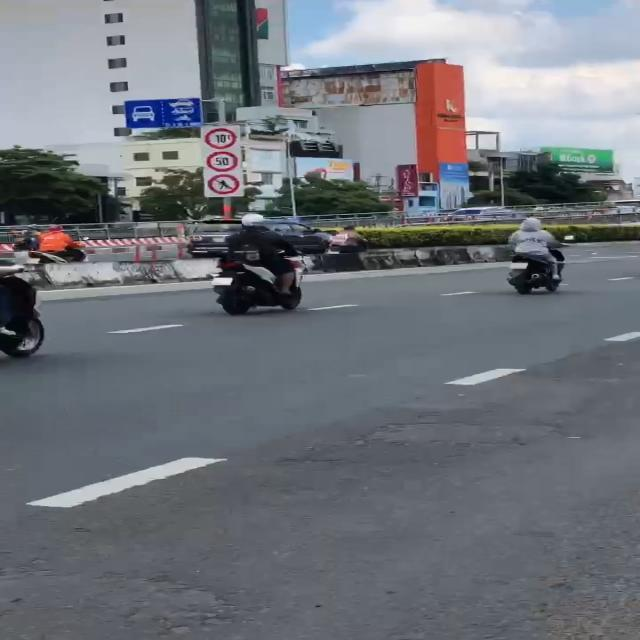Bien bao cam nguoi di bo: (206, 172, 242, 195)
Bien bao toc do toi da cho phep: (203, 150, 244, 173)
